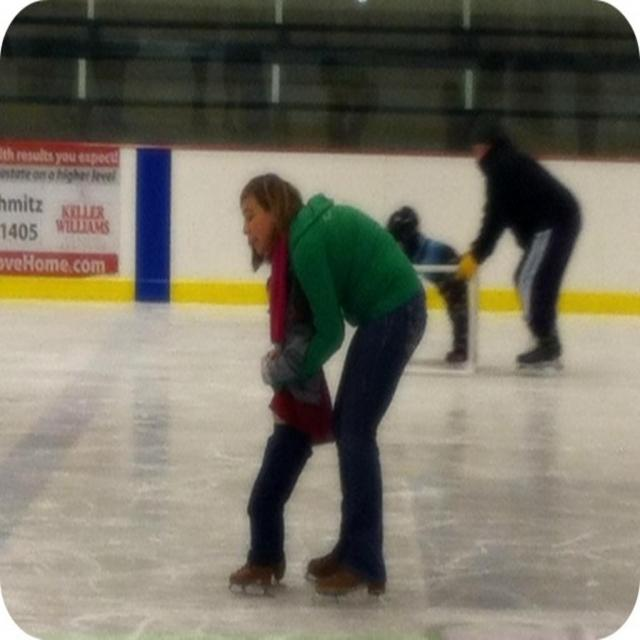nomask: (243, 194, 271, 256), (472, 140, 483, 164)
